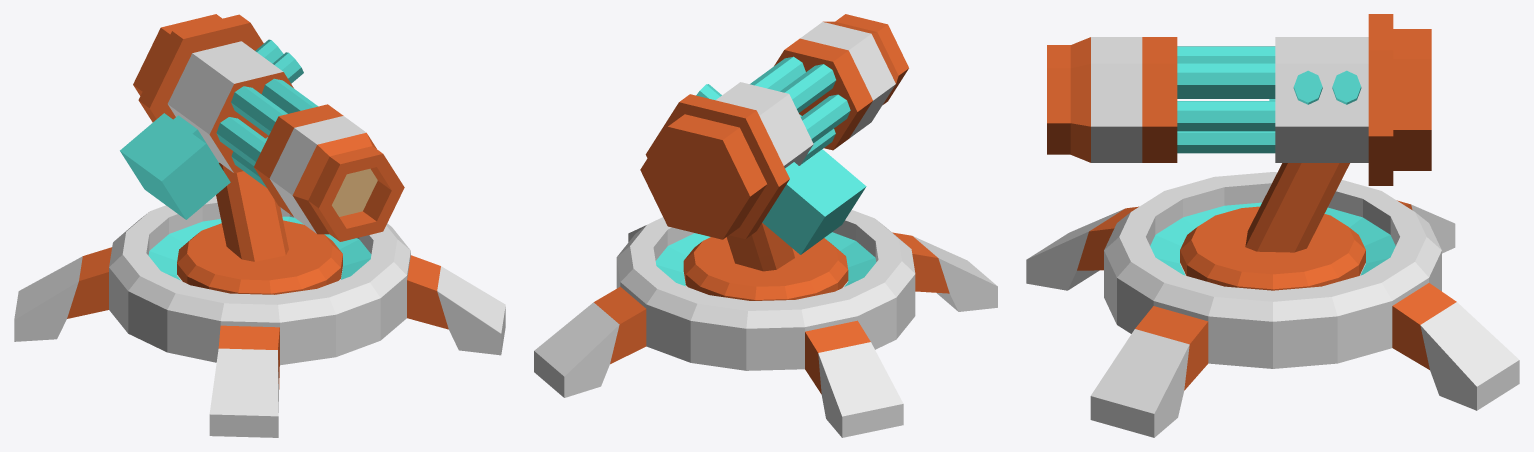
Rendered from turret1.glb.
The picture shows the model from 3 angles, left to right: view 1: azimuth 30°, elevation 25°; view 2: azimuth 150°, elevation 25°; view 3: azimuth 270°, elevation 25°; orthographic projection. The views are drawn at different scales.
Parts seen in each view (by area): view 1: Cylinder; view 2: Cylinder; view 3: Cylinder.
Part boxes in pixels (<box>): Cylinder: <box>14,14,505,437</box>; Cylinder: <box>534,14,997,437</box>; Cylinder: <box>1026,14,1519,437</box>.
Bounding box in the file's own units: 2.92 × 1.97 × 2.92.
